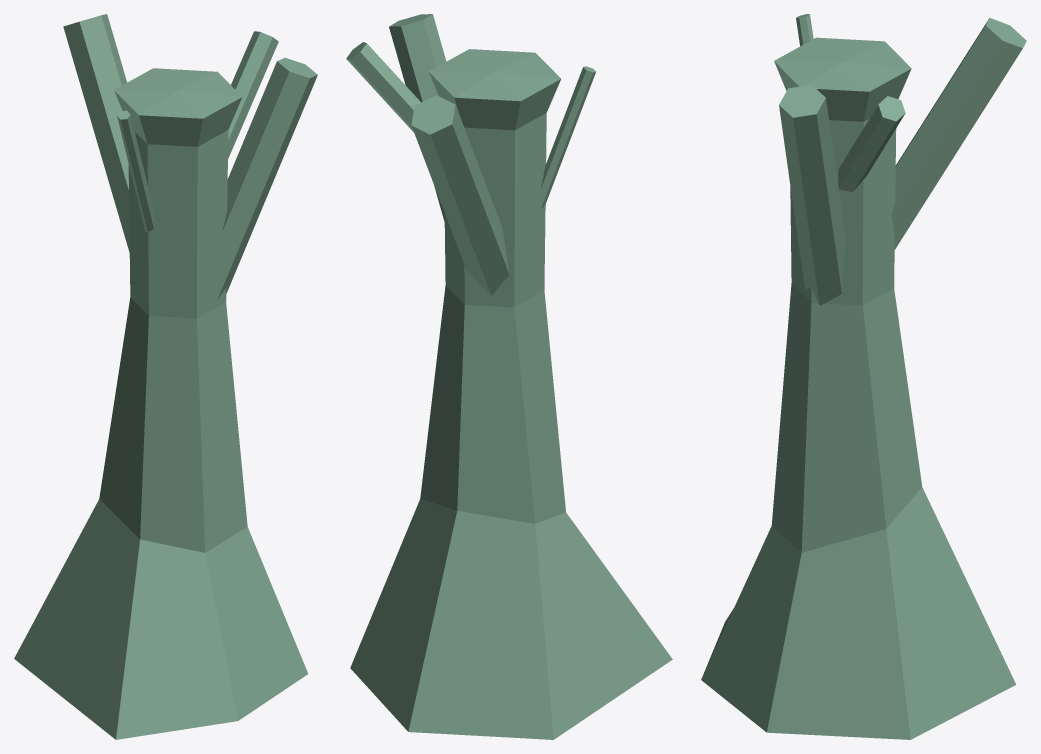
The model's file is Tree6 PerchForEnemies.fbx.
3 views of the same model, side by side, from view 1: azimuth 30°, elevation 25°; view 2: azimuth 150°, elevation 25°; view 3: azimuth 270°, elevation 25° (orthographic). The views are drawn at different scales.
Parts seen in each view (by area): view 1: pasted__pCylinder1, pasted__pCylinder5, pasted__pCylinder3, pasted__pCylinder4, pasted__pCylinder2; view 2: pasted__pCylinder1, pasted__pCylinder3, pasted__pCylinder5, pasted__pCylinder4, pasted__pCylinder2; view 3: pasted__pCylinder1, pasted__pCylinder3, pasted__pCylinder5, pasted__pCylinder4.
Boxes of the visible parts, box(x1,y1,x2,y2) form: pasted__pCylinder1: box(14, 68, 308, 739); pasted__pCylinder5: box(217, 57, 317, 300); pasted__pCylinder3: box(63, 14, 129, 252); pasted__pCylinder4: box(228, 31, 278, 158); pasted__pCylinder2: box(117, 110, 153, 232); pasted__pCylinder1: box(350, 49, 672, 739); pasted__pCylinder3: box(411, 95, 509, 295); pasted__pCylinder5: box(389, 14, 446, 221); pasted__pCylinder4: box(346, 42, 420, 132); pasted__pCylinder2: box(540, 66, 595, 209); pasted__pCylinder1: box(701, 37, 1016, 739); pasted__pCylinder3: box(891, 18, 1026, 249); pasted__pCylinder5: box(779, 85, 845, 305); pasted__pCylinder4: box(838, 96, 905, 191).
Size of the model in its own units: 24.72 by 60.87 by 27.54.
